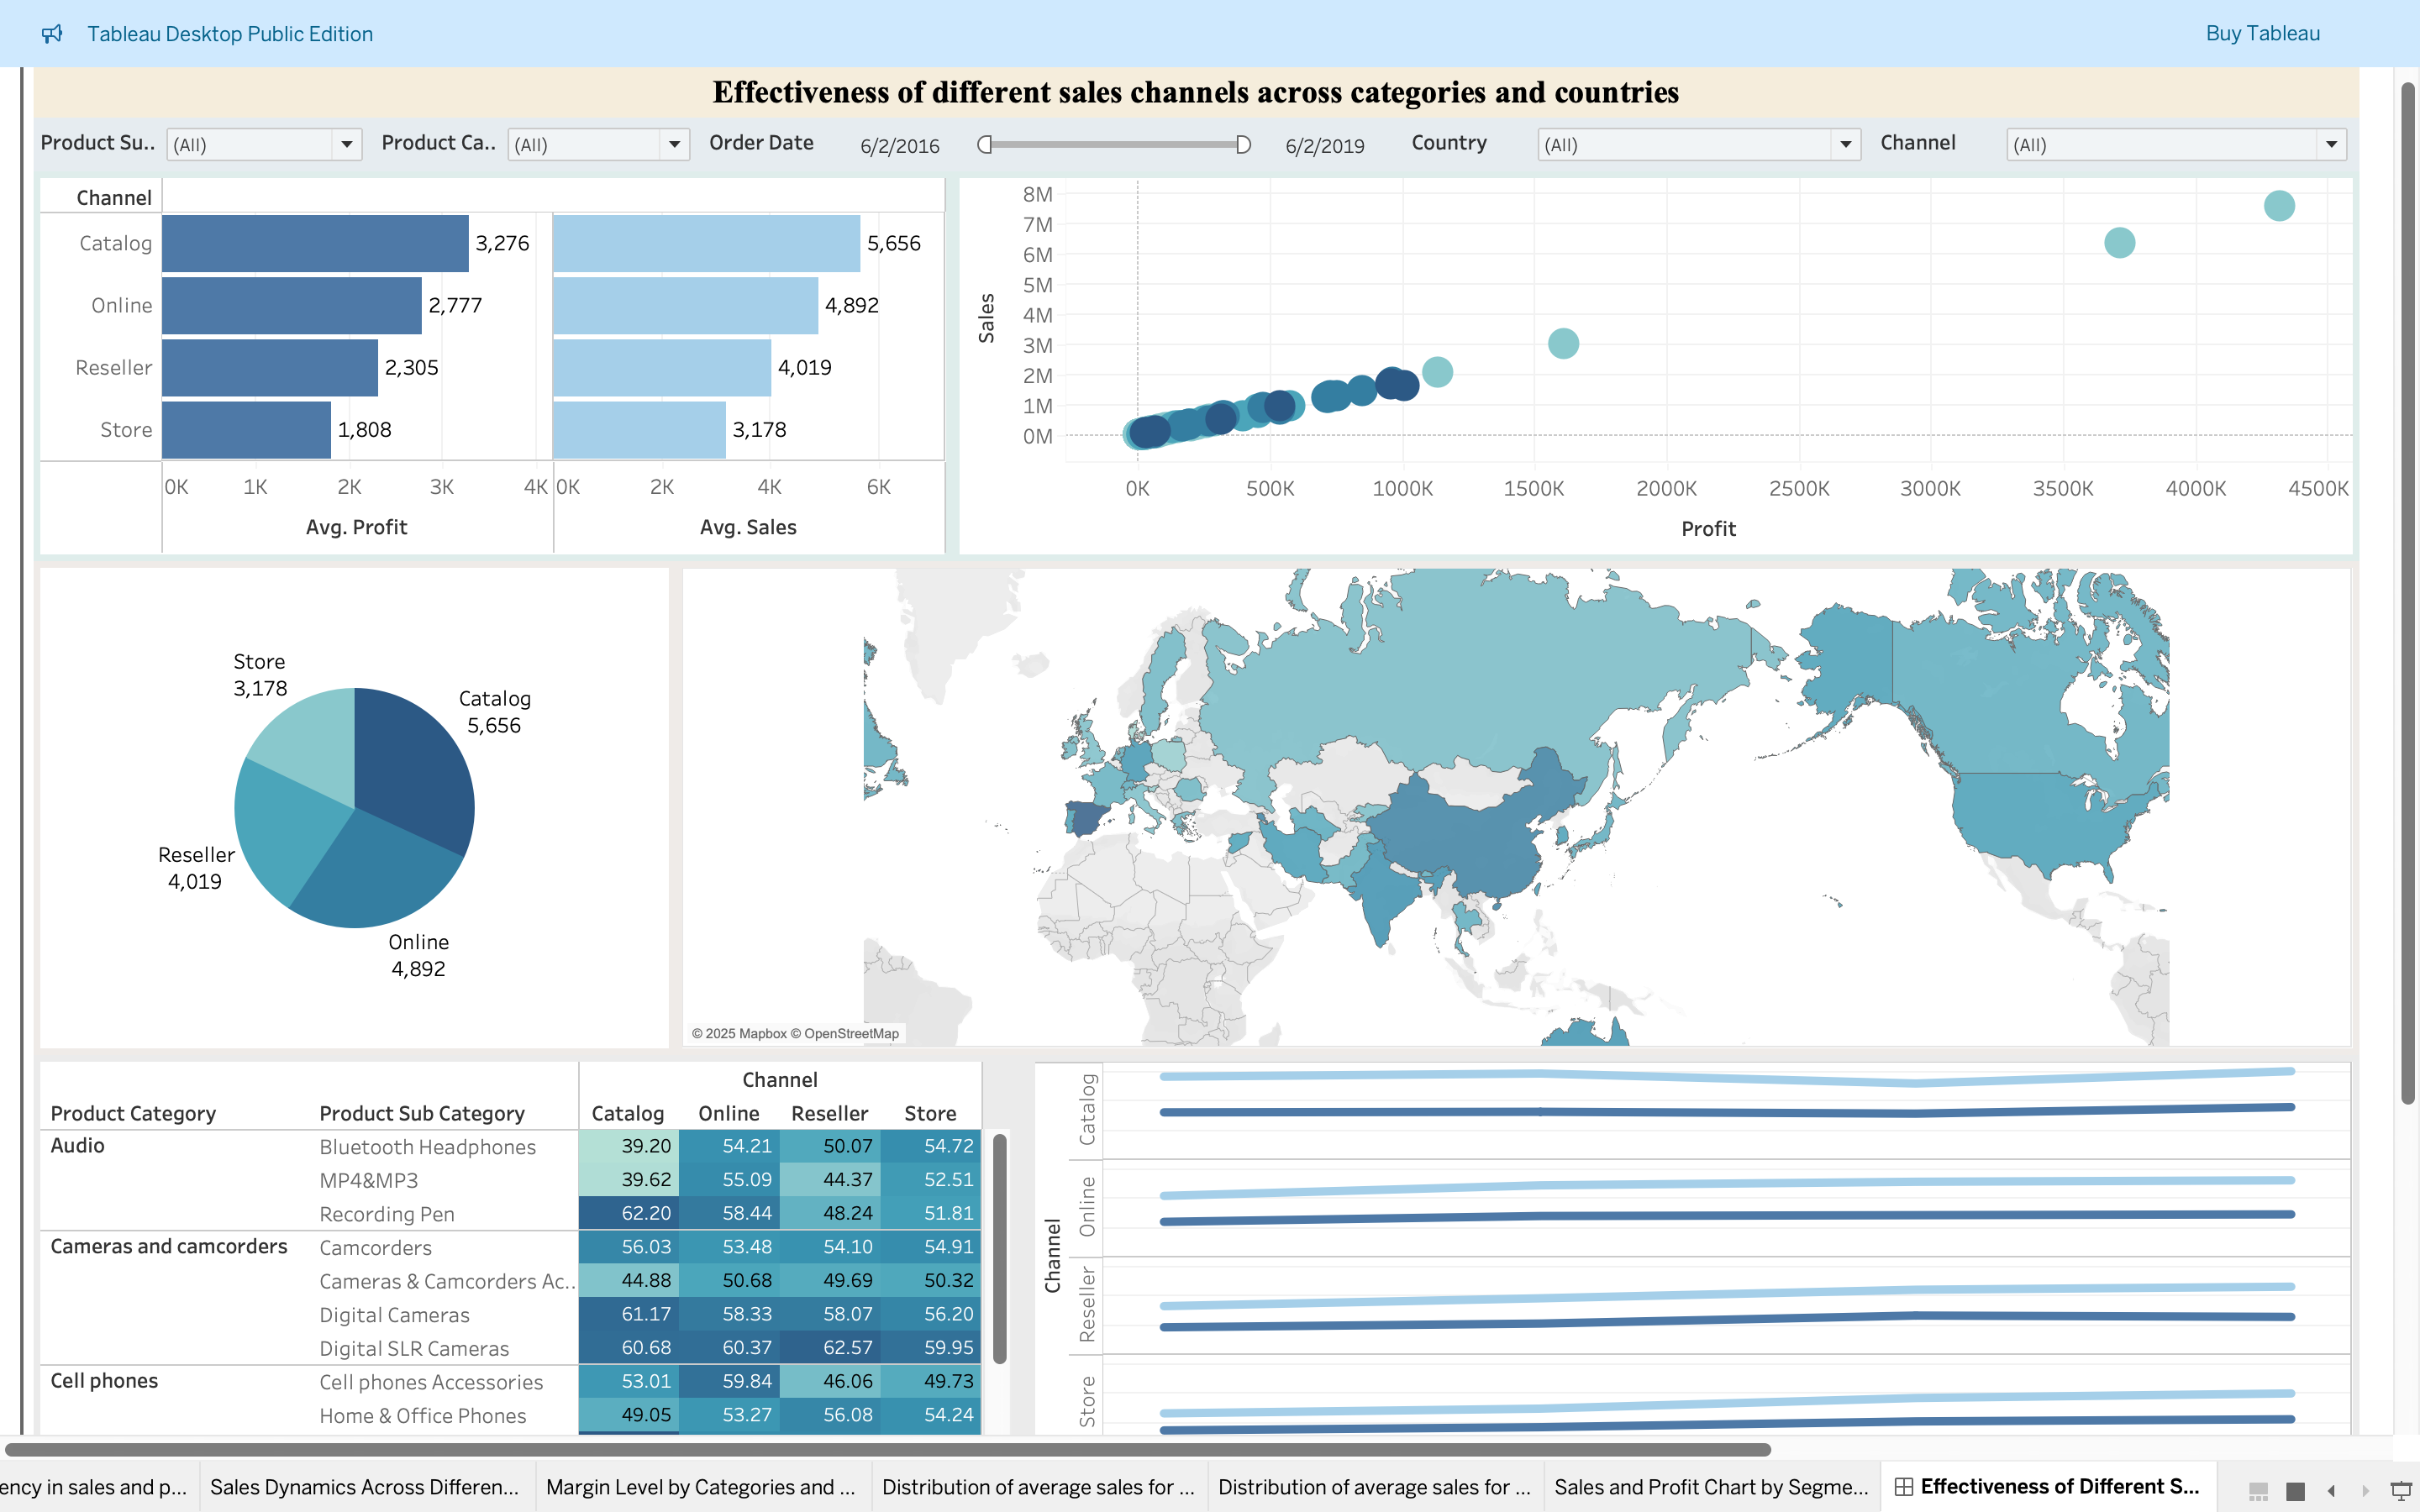

The page's visual inventory and layout, read from the dashboard file:
{"tool":"tableau","page":{"name":"Effectiveness of Different Sales Channels Across Categories and Countries","canvas":[1000,1000],"units":"permille","ordinal":0},"visuals":[{"type":"text","box":[5.7,8.9,988.6,33.3]},{"type":"filter","title":"Distribution of average sales for country","param":"[federated.1e8f1w100ngmuj1c9uykz0geg0ps].[none:Product Sub Category:nk]","box":[5.7,42.2,145,35.6]},{"type":"filter","title":"Distribution of average sales for country","param":"[federated.1e8f1w100ngmuj1c9uykz0geg0ps].[none:Product Category:nk]","box":[150.7,42.2,139.3,35.6]},{"type":"filter","title":"Distribution of average sales for country","param":"[federated.1e8f1w100ngmuj1c9uykz0geg0ps].[none:Order Date:qk]","box":[290,42.2,298.6,35.6]},{"type":"filter","title":"Distribution of average sales for country","param":"[federated.1e8f1w100ngmuj1c9uykz0geg0ps].[none:Country:nk]","box":[588.6,42.2,199.3,35.6]},{"type":"filter","title":"Distribution of average sales for country","param":"[federated.1e8f1w100ngmuj1c9uykz0geg0ps].[none:Channel:nk]","box":[787.9,42.2,206.4,35.6]},{"type":"worksheet","title":"Channel efficiency in sales and profit in different channels","mark":"Automatic","rows":["Channel"],"cols":["Profit","Sales"],"box":[5.7,77.8,390.7,257.8]},{"type":"worksheet","title":"Sales and Profit Chart by Segments","mark":"Automatic","rows":["Sales"],"cols":["Profit"],"box":[396.4,77.8,597.9,257.8]},{"type":"worksheet","title":"Distribution of average sales for channel","mark":"Pie","box":[5.7,335.6,272.9,326.7]},{"type":"worksheet","title":"Distribution of average sales for country","mark":"Automatic","box":[278.6,335.6,715.7,326.7]},{"type":"worksheet","title":"Margin Level by Categories and Channels","mark":"Square","rows":["Product Category","Product Sub Category"],"cols":["Channel"],"box":[5.7,662.2,422.9,328.9]},{"type":"worksheet","title":"Sales Dynamics Across Different Channels Over Time","mark":"Automatic","rows":["Channel","Profit","Sales"],"cols":["Order Date"],"box":[428.6,662.2,565.7,328.9]}]}

Visuals, with their boxes on the dashboard's canvas, which has no fixed pixel size, in thousandths of its width and height (x1, y1, x2, y2). These are canvas units, not pixel positions in the 2420x1512 screenshot, which may show the page scaled, cropped or inside an application window:
text: {"left": 6, "top": 9, "right": 994, "bottom": 42}
"Distribution of average sales for country" filter: {"left": 6, "top": 42, "right": 151, "bottom": 78}
"Distribution of average sales for country" filter: {"left": 151, "top": 42, "right": 290, "bottom": 78}
"Distribution of average sales for country" filter: {"left": 290, "top": 42, "right": 589, "bottom": 78}
"Distribution of average sales for country" filter: {"left": 589, "top": 42, "right": 788, "bottom": 78}
"Distribution of average sales for country" filter: {"left": 788, "top": 42, "right": 994, "bottom": 78}
"Channel efficiency in sales and profit in different channels" worksheet: {"left": 6, "top": 78, "right": 396, "bottom": 336}
"Sales and Profit Chart by Segments" worksheet: {"left": 396, "top": 78, "right": 994, "bottom": 336}
"Distribution of average sales for channel" worksheet (Pie marks): {"left": 6, "top": 336, "right": 279, "bottom": 662}
"Distribution of average sales for country" worksheet: {"left": 279, "top": 336, "right": 994, "bottom": 662}
"Margin Level by Categories and Channels" worksheet (Square marks): {"left": 6, "top": 662, "right": 429, "bottom": 991}
"Sales Dynamics Across Different Channels Over Time" worksheet: {"left": 429, "top": 662, "right": 994, "bottom": 991}
